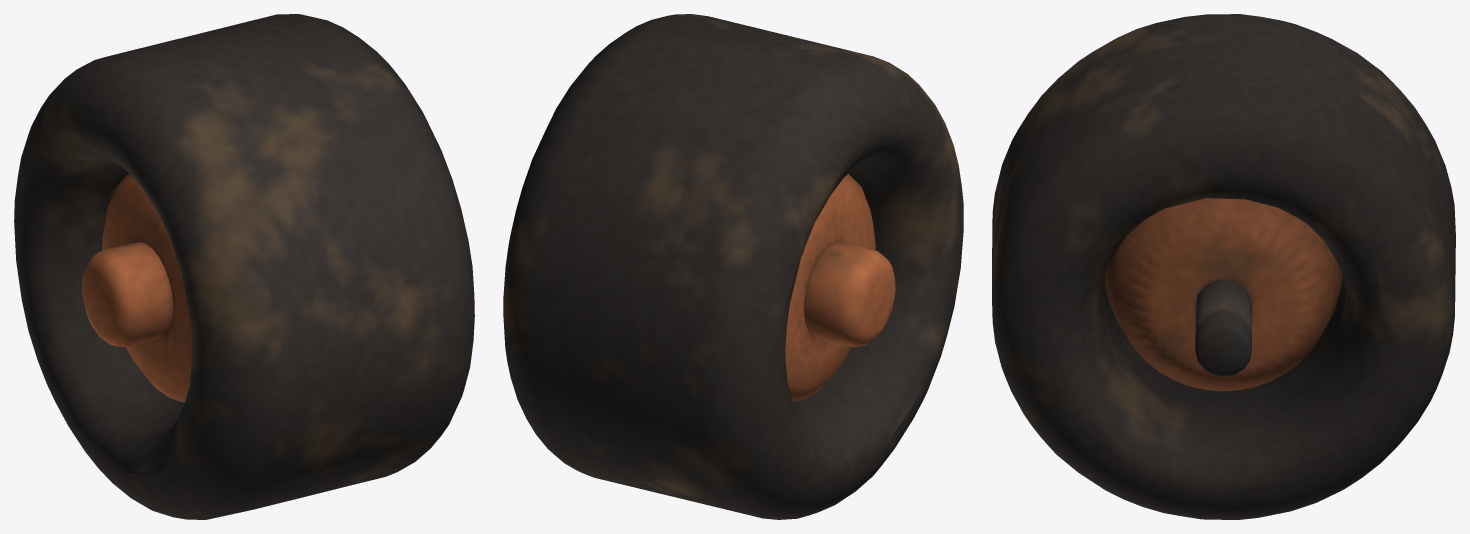
3 views of the same model, side by side, from view 1: azimuth 30°, elevation 25°; view 2: azimuth 150°, elevation 25°; view 3: azimuth 270°, elevation 25° (orthographic). The views are drawn at different scales.
Parts seen in each view (by area): view 1: wheel_FR; view 2: wheel_FR; view 3: wheel_FR.
Boxes of the visible parts, x1,y1,x2,y2 form: wheel_FR: (14, 14, 474, 519); wheel_FR: (503, 14, 963, 519); wheel_FR: (992, 14, 1455, 519).
Bounding box in the file's own units: 0.2276 × 0.2893 × 0.2894.
1 material, 1 textured.
